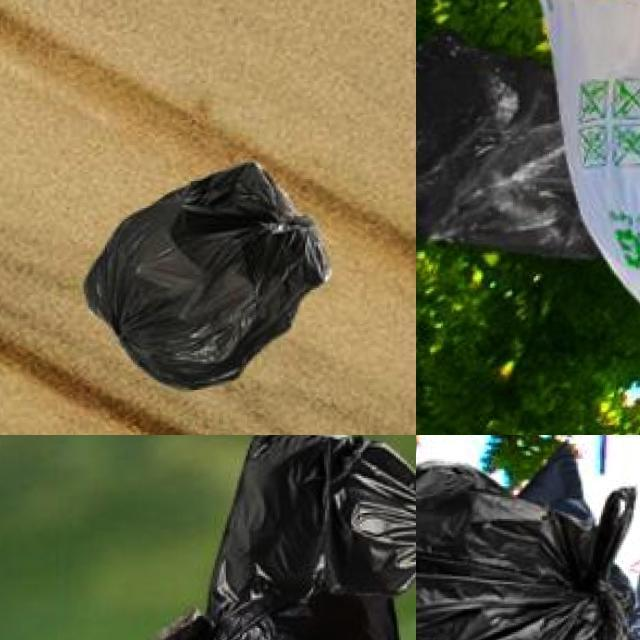waste: (97, 163, 329, 392), (416, 456, 639, 640), (207, 435, 416, 611), (416, 28, 569, 264), (532, 0, 640, 320), (124, 591, 416, 640)
